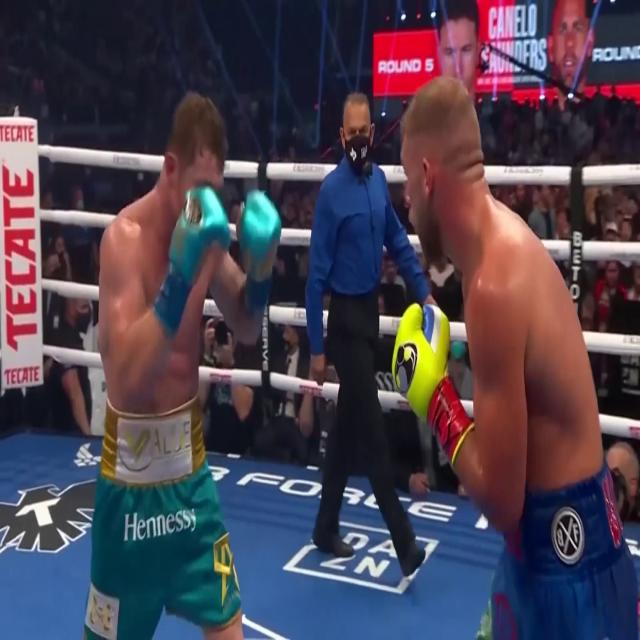boxer_1: (401, 75, 623, 578)
boxer_2: (98, 90, 228, 485)
gloves_1: (393, 302, 475, 465)
gloves_2: (153, 184, 230, 336), (239, 189, 281, 311)
